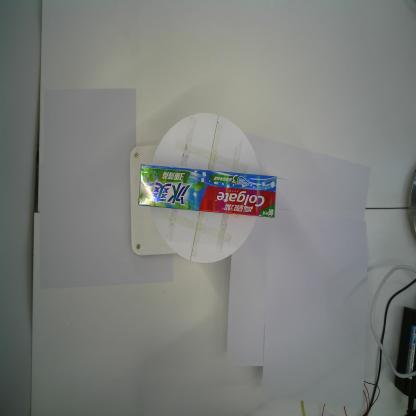Personal Hygiene: (138, 164, 277, 221)
